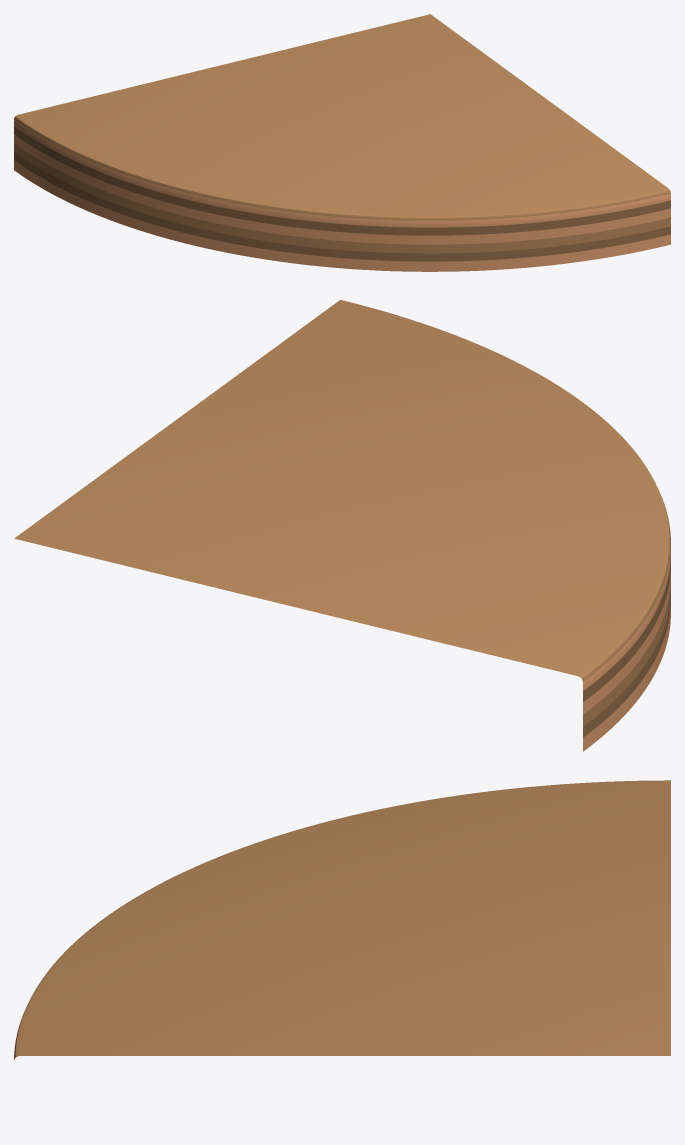
The model's file is platform_dirt_corner_round8_tall.gltf.
3 renders of one model, top to bottom at view 1: azimuth 30°, elevation 25°; view 2: azimuth 150°, elevation 25°; view 3: azimuth 270°, elevation 25°, orthographic. The views are drawn at different scales.
Parts seen in each view (by area): view 1: Cube_Dirt_Corner_Round8_Tall; view 2: Cube_Dirt_Corner_Round8_Tall; view 3: Cube_Dirt_Corner_Round8_Tall.
Boxes of the visible parts, x1,y1,x2,y2 form: Cube_Dirt_Corner_Round8_Tall: (14, 14, 670, 271); Cube_Dirt_Corner_Round8_Tall: (14, 300, 670, 751); Cube_Dirt_Corner_Round8_Tall: (14, 780, 670, 1059).
Bounding box in the file's own units: 16 × 2 × 16.
